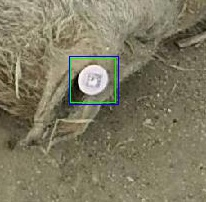text: (70, 58, 115, 102)
